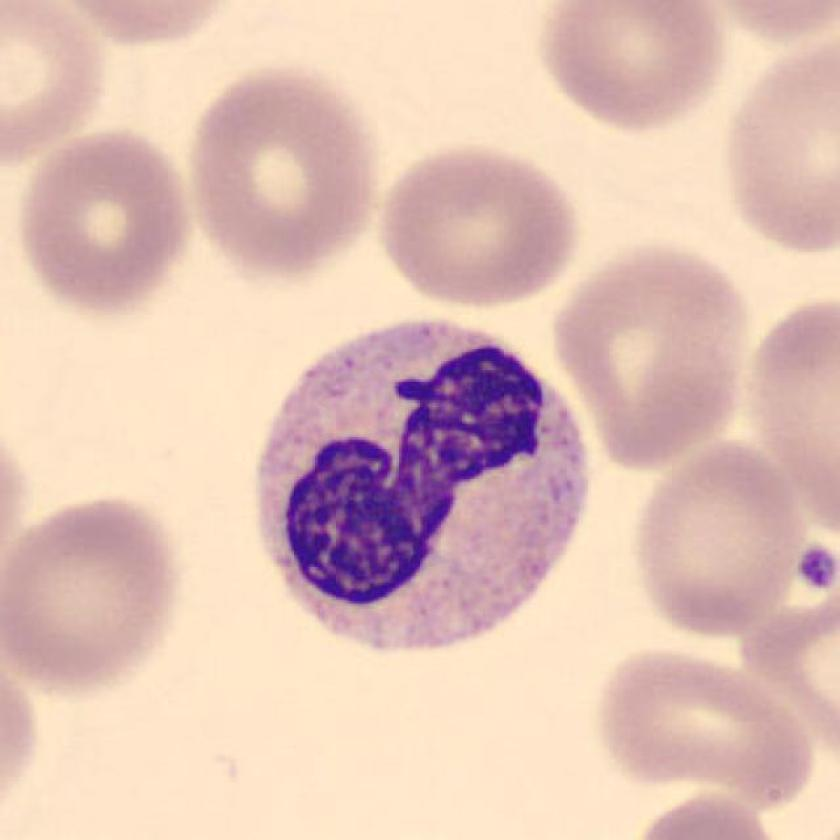neutrophil: (256, 320, 587, 648)
